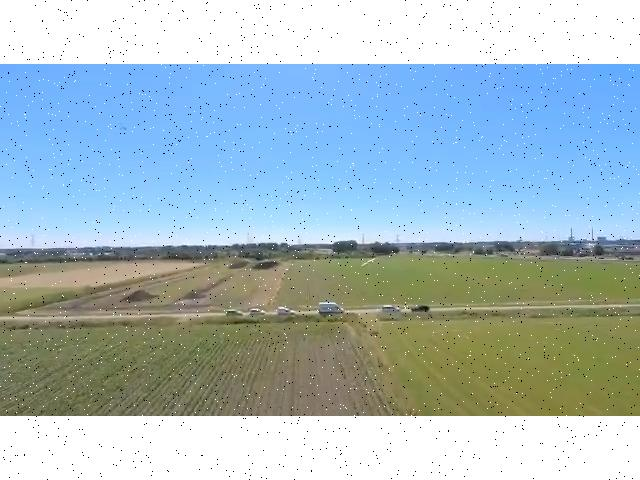Anti-Drone: (108, 118, 136, 142)
